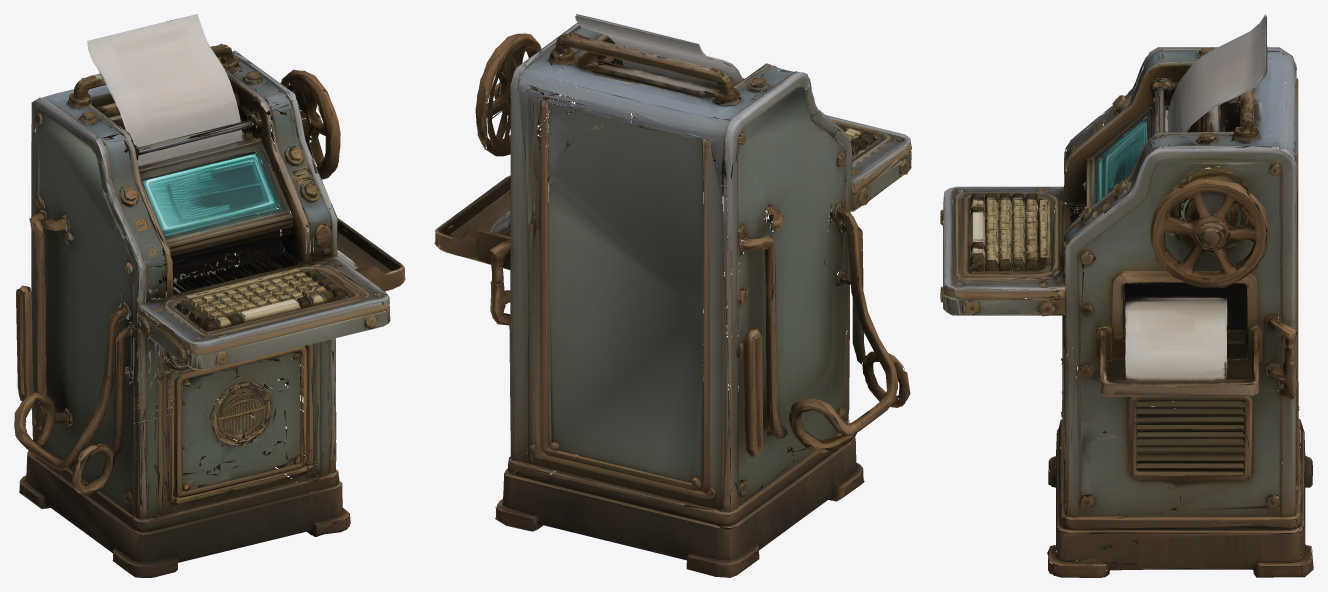
File: prop-terminal-printer.glb
The picture shows the model from 3 angles, left to right: view 1: azimuth 30°, elevation 25°; view 2: azimuth 150°, elevation 25°; view 3: azimuth 270°, elevation 25°; orthographic projection. The views are drawn at different scales.
Visible parts, largest first — view 1: prop-terminal-printer; view 2: prop-terminal-printer; view 3: prop-terminal-printer.
Boxes of the visible parts, left/top/right/bottom form: prop-terminal-printer: left=14, top=14, right=405, bottom=577; prop-terminal-printer: left=434, top=14, right=911, bottom=577; prop-terminal-printer: left=940, top=14, right=1313, bottom=577.
Bounding box in the file's own units: 0.5203 × 0.6504 × 0.4593.
1 material, 1 textured.
